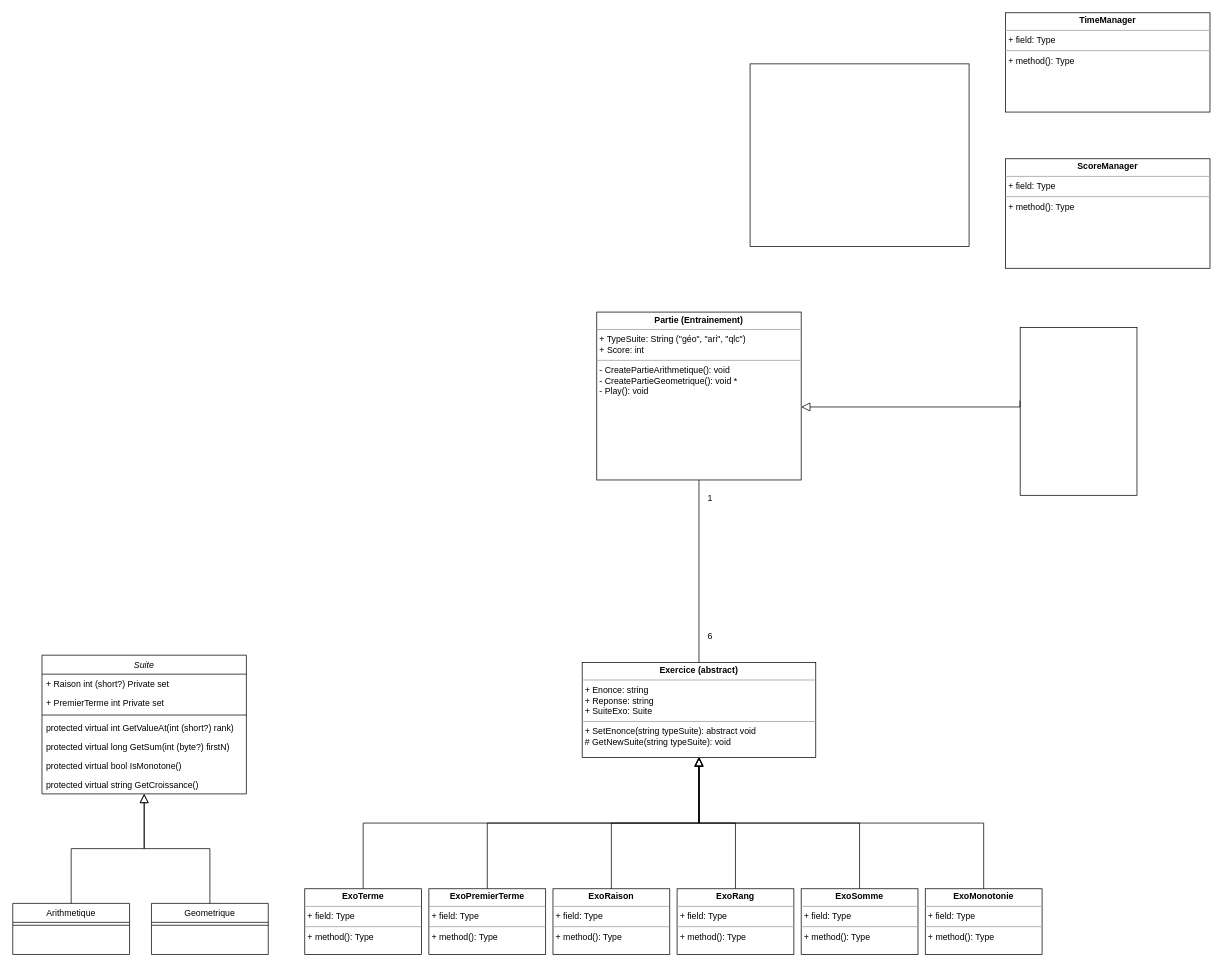
Image size: 1223x967. Some labels were removed from this diagram. Here are the shapes that lost their labels. From the top down, the centre of each, then its label:
At [859,154]: "Player + Nom: string + Repondre(): string + RefreshQuestion(): void".
At [1078,411]: "Versus + Players: Player[2] + method(): Type".
